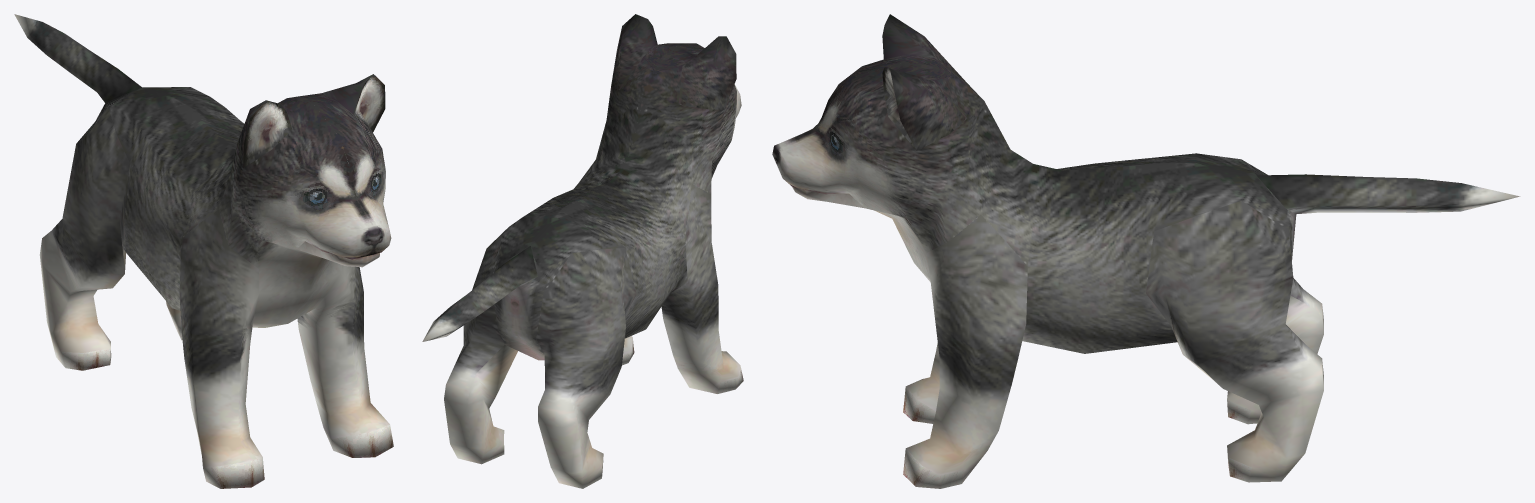
Rendered from dog.glb.
3 views of the same model, side by side, from view 1: azimuth 30°, elevation 25°; view 2: azimuth 150°, elevation 25°; view 3: azimuth 270°, elevation 25° (orthographic). The views are drawn at different scales.
Parts seen in each view (by area): view 1: Hsk_a; view 2: Hsk_a; view 3: Hsk_a.
Boxes of the visible parts, x1,y1,x2,y2 form: Hsk_a: [14, 14, 393, 488]; Hsk_a: [422, 14, 743, 488]; Hsk_a: [772, 14, 1520, 488].
Size of the model in its own units: 1.7 by 3.44 by 5.76.
3 materials, 3 textured.
